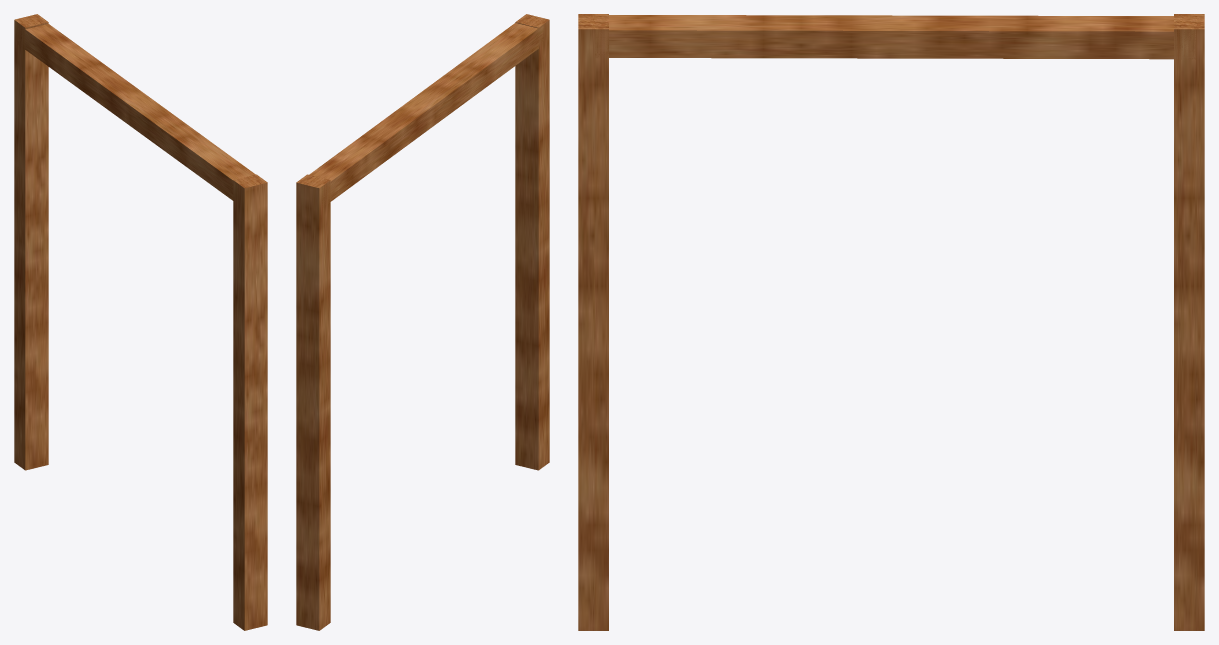
Rendered from marco2.obj.
The picture shows the model from 3 angles, left to right: view 1: azimuth 30°, elevation 25°; view 2: azimuth 150°, elevation 25°; view 3: azimuth 270°, elevation 25°; orthographic projection. The views are drawn at different scales.
Parts seen in each view (by area): view 1: Cube.003; view 2: Cube.003; view 3: Cube.003.
Part boxes in pixels (<box>): Cube.003: <box>14,14,267,630</box>; Cube.003: <box>296,14,549,630</box>; Cube.003: <box>578,14,1204,630</box>.
Size of the model in its own units: 0.337 by 6.12 by 5.77.
